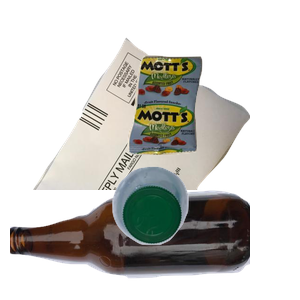glass: (10, 188, 250, 300)
paper: (31, 35, 271, 215)
plastic: (110, 164, 300, 300)
trash: (125, 53, 300, 201)
